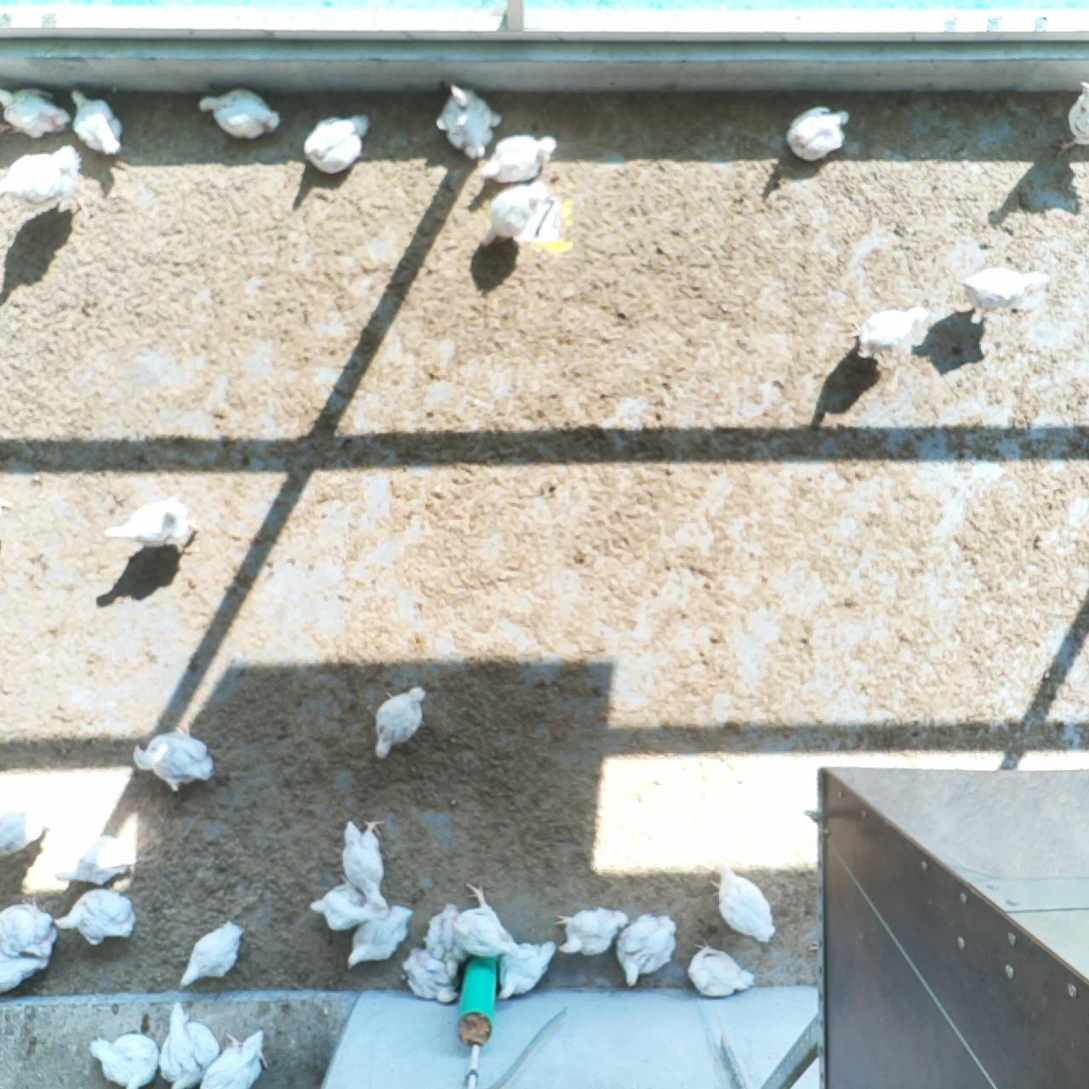chicken: (1, 145, 94, 214), (158, 1004, 225, 1089), (962, 265, 1060, 323), (715, 864, 781, 950), (121, 729, 214, 790), (108, 503, 210, 558), (57, 884, 134, 951), (455, 880, 520, 959), (436, 85, 501, 160), (852, 305, 925, 366), (55, 831, 139, 884), (614, 909, 671, 984), (201, 86, 282, 138), (479, 131, 558, 184), (341, 906, 410, 966), (479, 179, 542, 243), (180, 919, 241, 985), (65, 88, 124, 156), (340, 819, 386, 906), (785, 105, 855, 162), (305, 112, 369, 174), (91, 1030, 157, 1089), (687, 942, 751, 1002), (496, 939, 556, 1001), (202, 1035, 269, 1089), (1, 86, 69, 139), (559, 907, 624, 962), (372, 690, 427, 754), (406, 945, 461, 1001), (314, 883, 377, 931), (1, 900, 57, 951), (428, 906, 467, 976), (1, 943, 47, 993), (1, 807, 46, 856), (1063, 76, 1089, 160)
